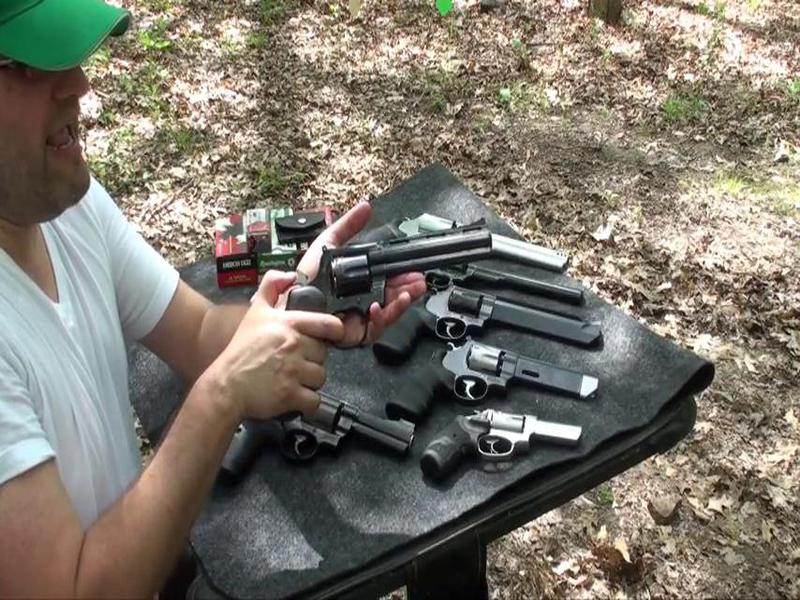Revolver: (272, 219, 504, 344)
